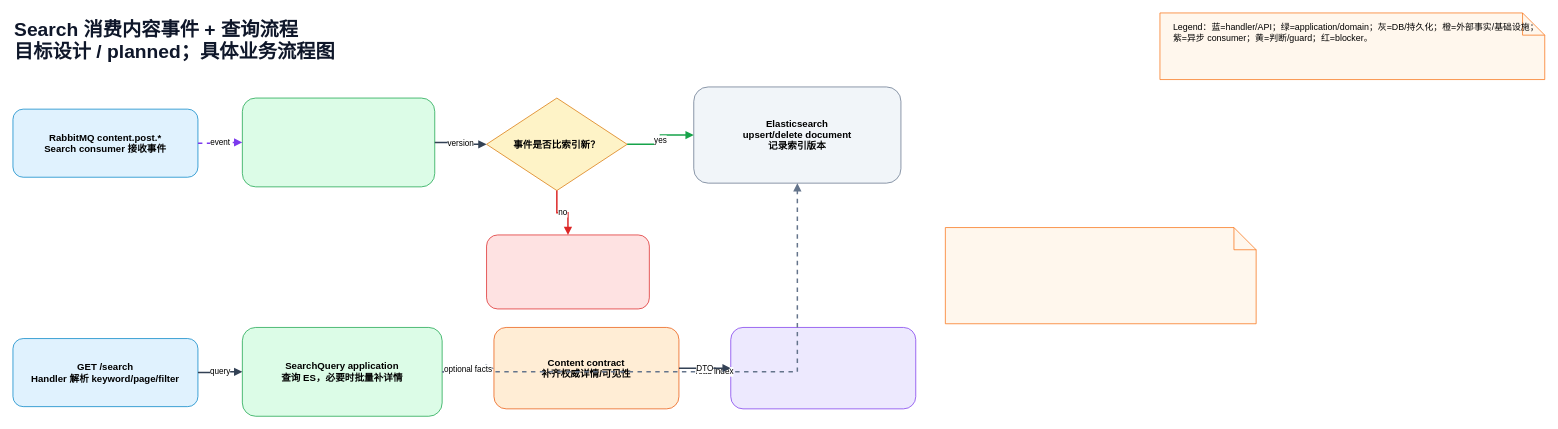
The diagram is 1558 pixels wide and 429 high, and some of its shapes have lost their labels. The centre of each missing label's shape, as x and y in pixels:
Index application 按 eventId/version 幂等 解析文章快照: the point at 338,142
old/duplicate no-op ack，不覆盖索引: the point at 567,271
关键约束 Search 不拥有文章或用户事实；删除事件必须覆盖旧更新事件。: the point at 1100,275
返回搜索结果 预览数据 + 权威详情: the point at 823,368
